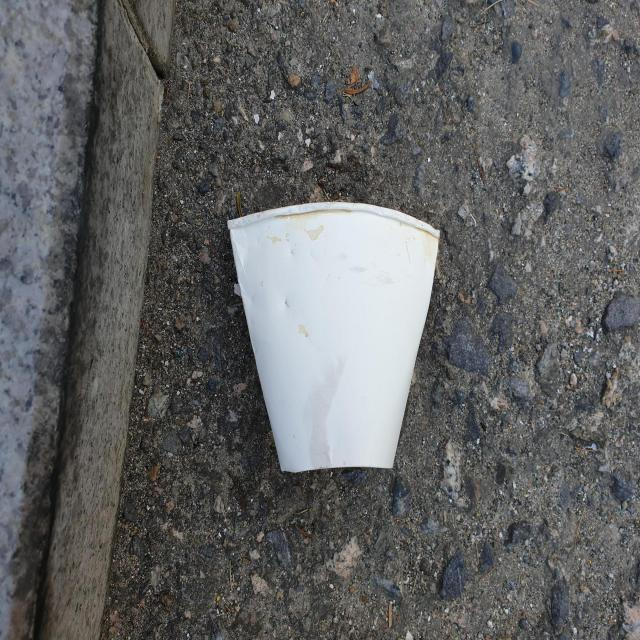paperpack: (228, 202, 440, 472)
